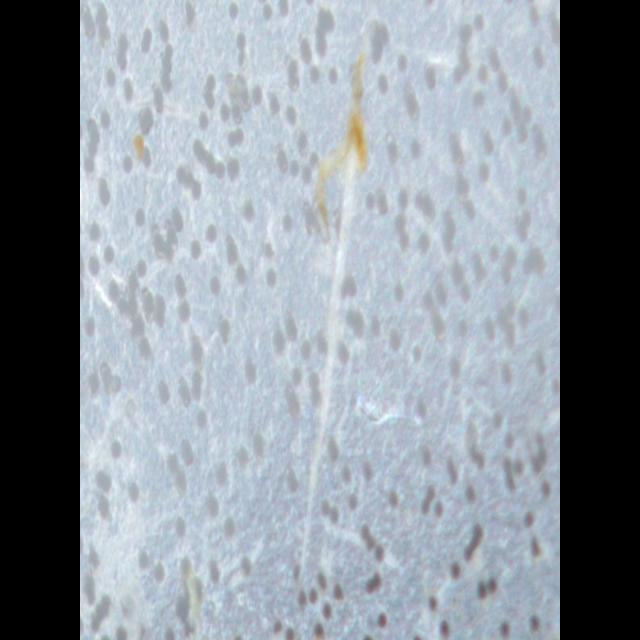Fibre: (293, 19, 372, 593)
